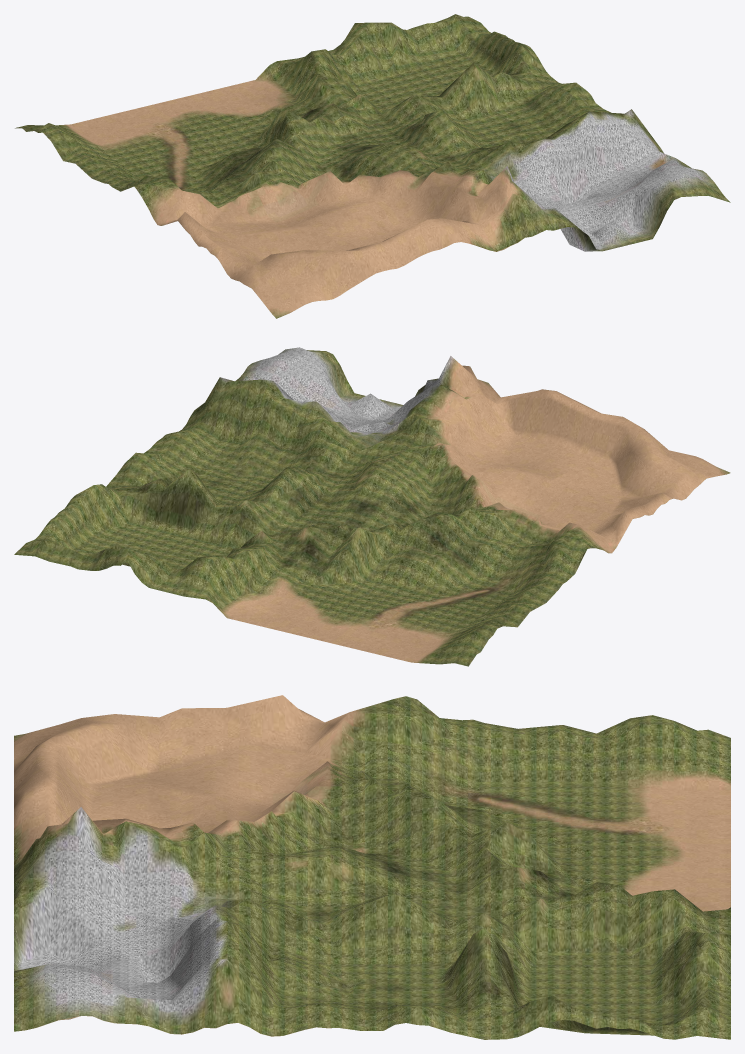
3 renders of one model, top to bottom at view 1: azimuth 30°, elevation 25°; view 2: azimuth 150°, elevation 25°; view 3: azimuth 270°, elevation 25°, orthographic. The views are drawn at different scales.
Parts seen in each view (by area): view 1: Mesh; view 2: Mesh; view 3: Mesh.
Boxes of the visible parts, left/top/right/bottom form: Mesh: left=15, top=14, right=730, bottom=318; Mesh: left=14, top=347, right=730, bottom=666; Mesh: left=14, top=695, right=730, bottom=1039.
Bounding box in the file's own units: 750 × 134 × 750.
1 material, 1 textured.
